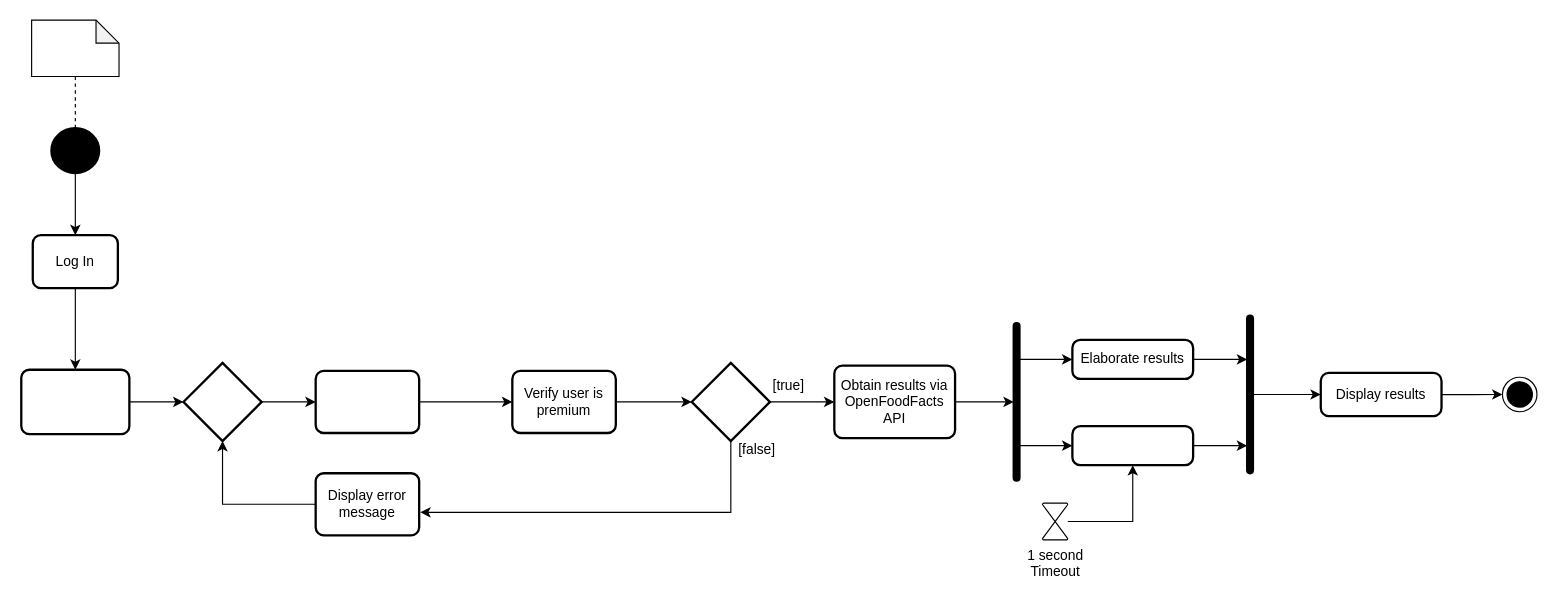
Image size: 1557x601. Some labels were removed from this diagram. The box of each missing label's shape, as (x1, y1, x2, y2) in pixels:
Display loading screen: (1071, 424, 1194, 466)
Enter the name of a product: (314, 369, 420, 434)
Open "Search Product" window: (20, 368, 130, 435)
Search Product: (30, 19, 119, 76)
